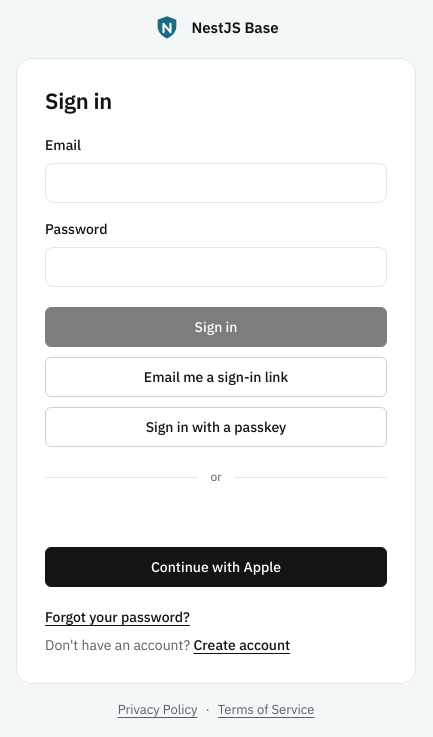
LoginPage — passkey › enquanto o navegador espera a passkey, o botão avisa e fica desligado
Step 1. Click the button "Sign in with a passkey" → (216, 427), box [45,407,387,447]
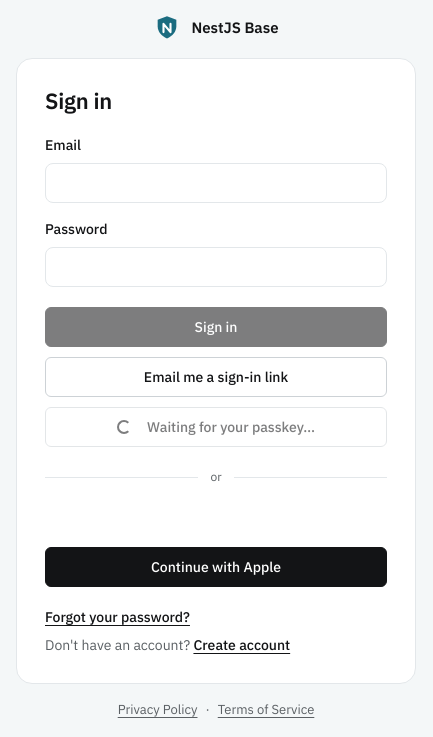
Expected: the button "Sign in" is disabled, [45,307,387,347]
Result: the button "Waiting for your passkey…" is disabled at [45,407,387,447]
